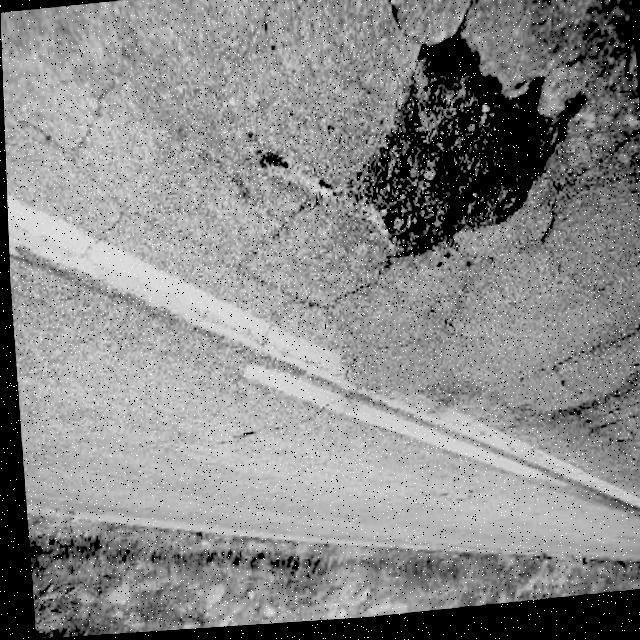pothole: (318, 19, 586, 272)
